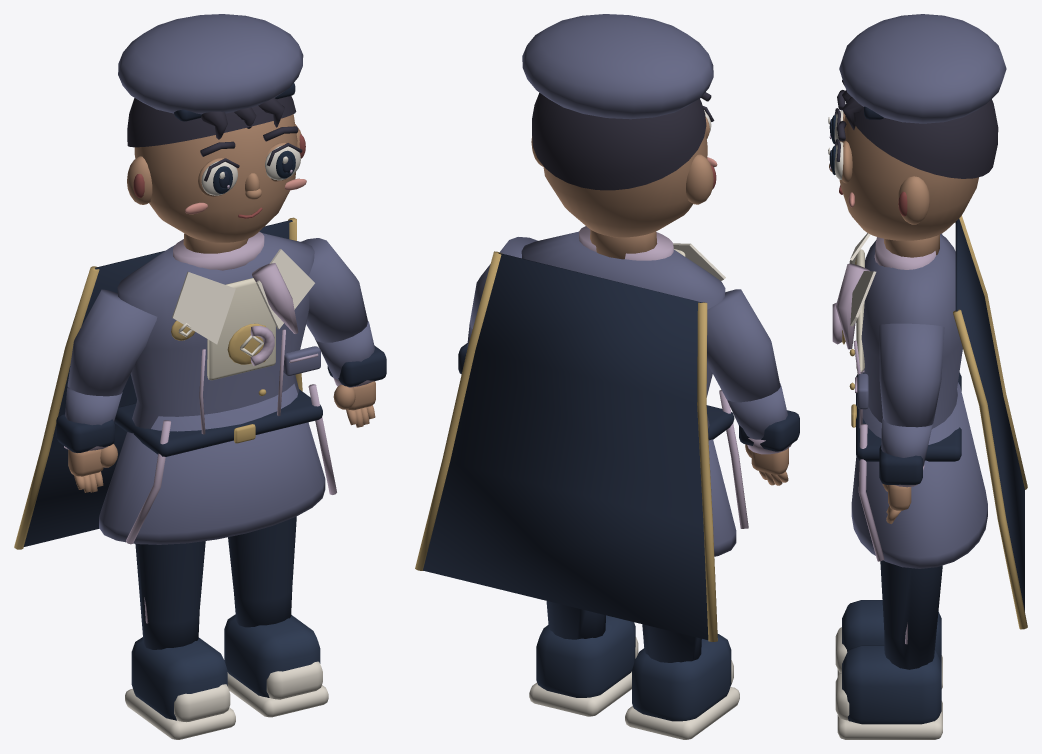
Rendered from npc_graveyard_lieutenant_1.glb.
3 renders of one model, left to right at view 1: azimuth 30°, elevation 25°; view 2: azimuth 150°, elevation 25°; view 3: azimuth 270°, elevation 25°, orthographic. The views are drawn at different scales.
Visible parts, largest first — view 1: figure.055; view 2: figure.055; view 3: figure.055.
Boxes of the visible parts, x1,y1,x2,y2 form: figure.055: (14,14,386,739); figure.055: (415,14,799,739); figure.055: (828,14,1027,739).
Size of the model in its own units: 0.8513 by 1.72 by 0.4637.
